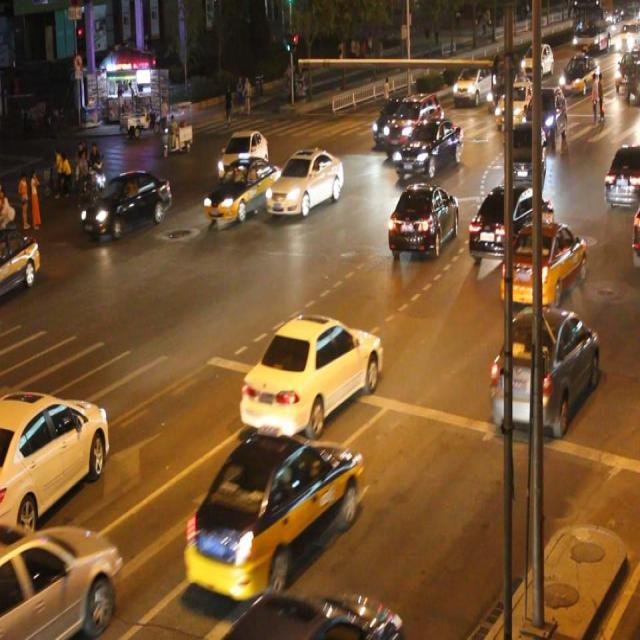car: (184, 431, 363, 600), (239, 314, 383, 434), (1, 388, 110, 544), (487, 303, 596, 434), (1, 527, 120, 640), (220, 591, 400, 640), (501, 220, 585, 304), (82, 169, 171, 238), (384, 180, 458, 256), (468, 184, 543, 256), (265, 146, 343, 215), (202, 158, 283, 224), (392, 118, 463, 181), (383, 91, 444, 156), (217, 127, 268, 182), (1, 226, 40, 294), (602, 143, 640, 208), (372, 94, 417, 144), (492, 78, 535, 130), (508, 122, 544, 180)
